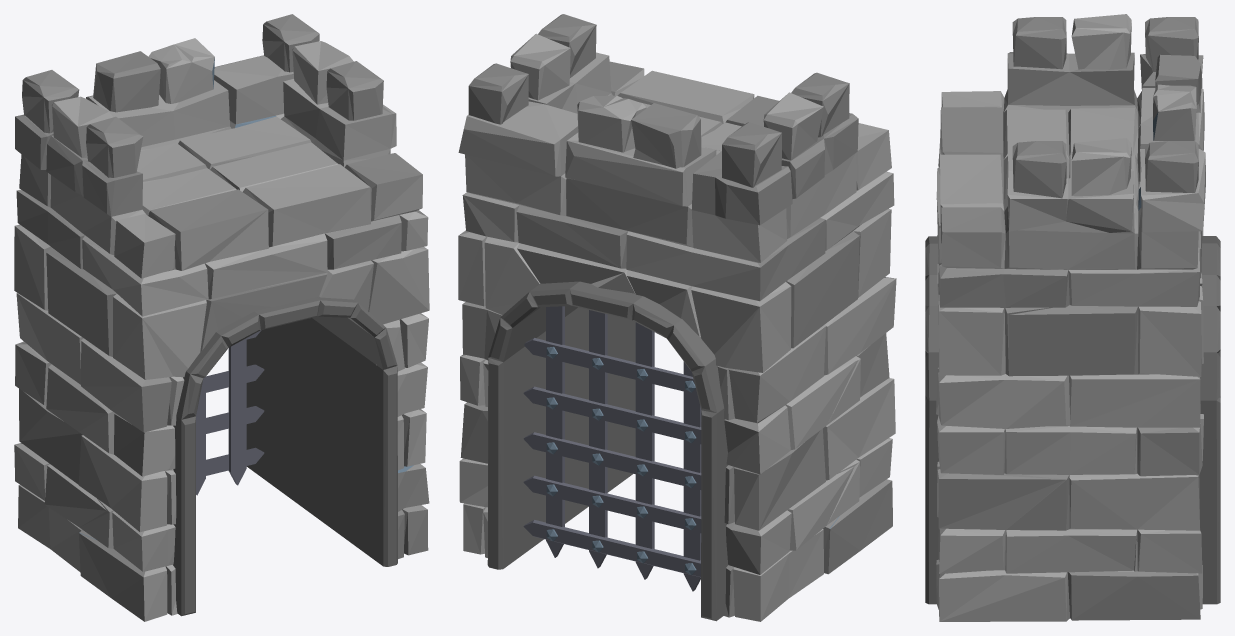
File: _minnor_gates_02.fbx
3 renders of one model, left to right at view 1: azimuth 30°, elevation 25°; view 2: azimuth 150°, elevation 25°; view 3: azimuth 270°, elevation 25°, orthographic. The views are drawn at different scales.
Parts seen in each view (by area): view 1: minnor_gates_02; view 2: minnor_gates_02; view 3: minnor_gates_02.
Part boxes in pixels (x1,y1,x2,y2): minnor_gates_02: (14, 14, 429, 621); minnor_gates_02: (458, 14, 896, 621); minnor_gates_02: (925, 14, 1220, 621).
Size of the model in its own units: 445 by 660 by 377.
